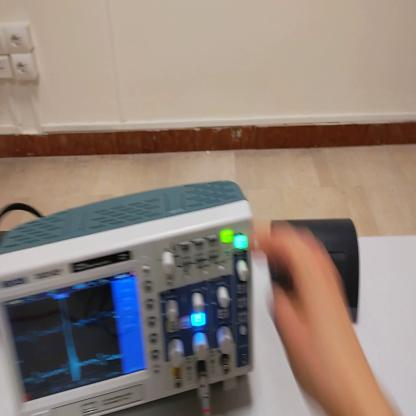hand: (254, 225, 360, 404)
oscilloscope: (1, 179, 251, 416)
